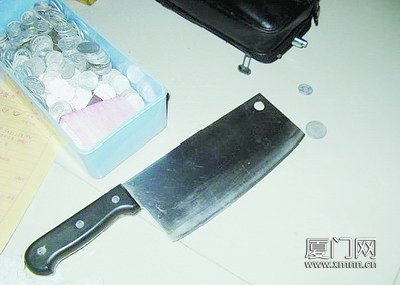knief: (26, 99, 308, 272)
